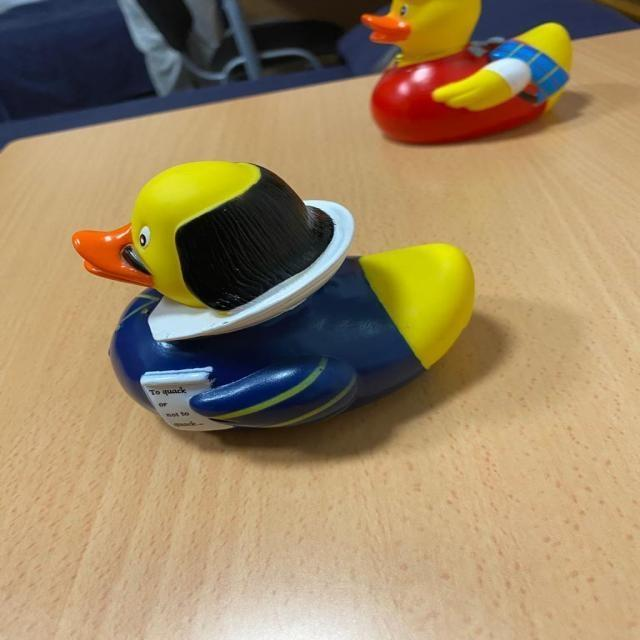rubber-duck: (72, 160, 472, 429), (361, 0, 570, 141)
